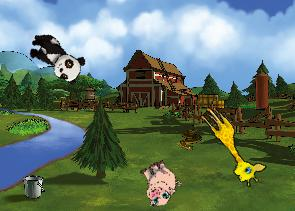giraffe: (189, 102, 270, 190)
panda: (22, 28, 89, 87)
pig: (132, 155, 185, 210)
